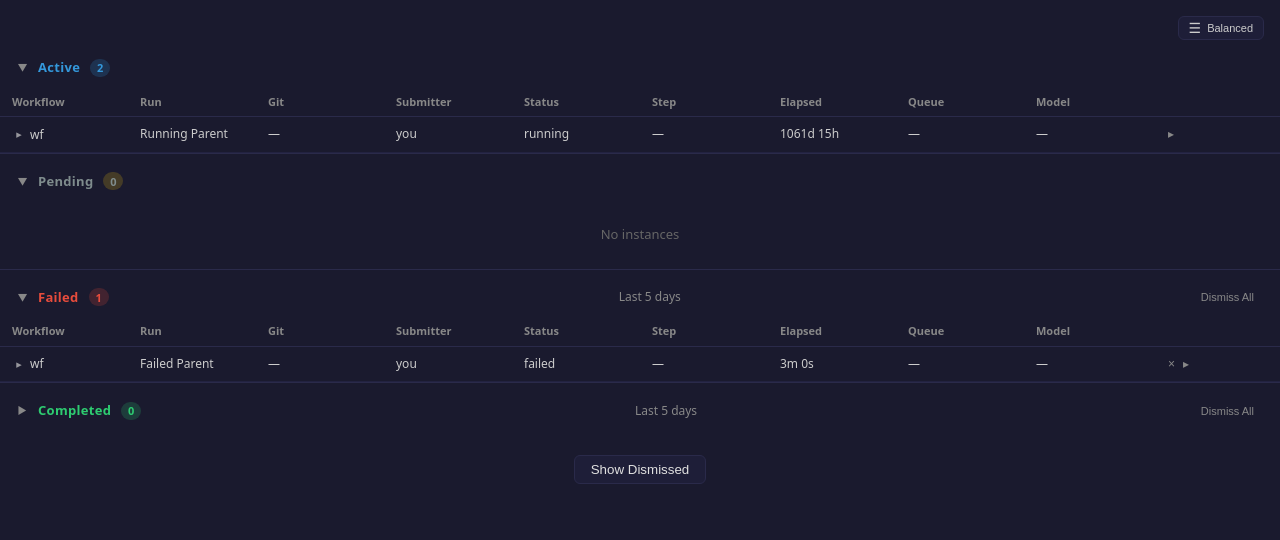
Test: QueueView live patch of expanded children › expanded child goes script → agent_call on node.started with no lifecycle event
The width and height of the screenshot is (1280, 540).
Later steps or results of the test are not shown.
Click the 1st button "▸": (19,134) [12, 129, 26, 140]
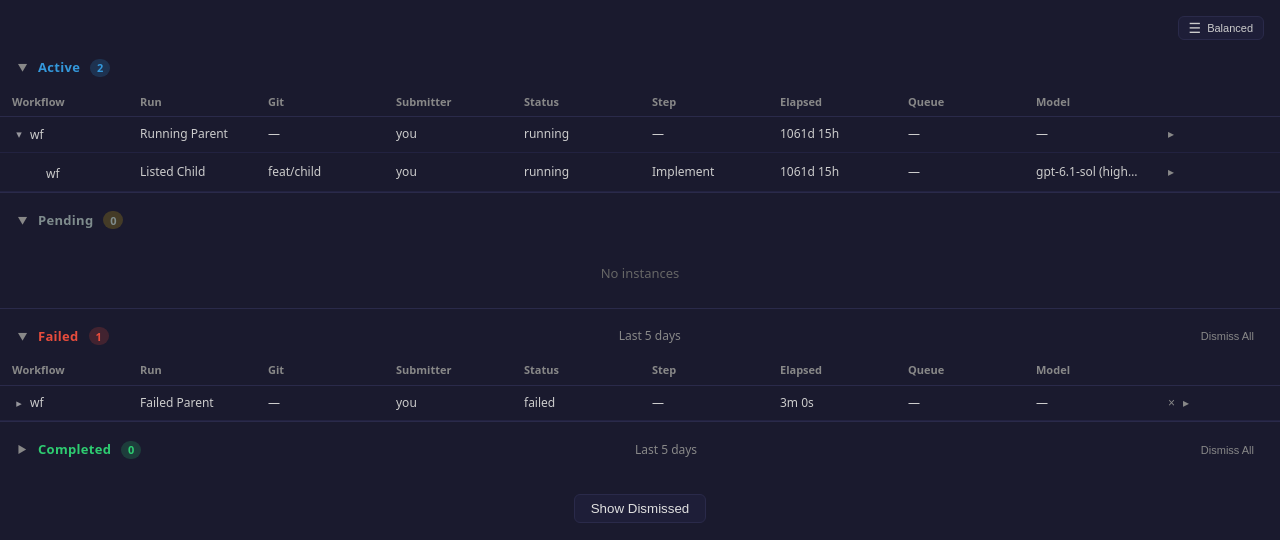
Expected: the text "Listed Child" is shown, [128, 152, 256, 191]
Expected: the cell "gpt-6.1-sol (high) · codex · litellm" is shown, [1024, 152, 1152, 191]
Expected: the text "feat/child" is shown, [268, 162, 321, 180]
